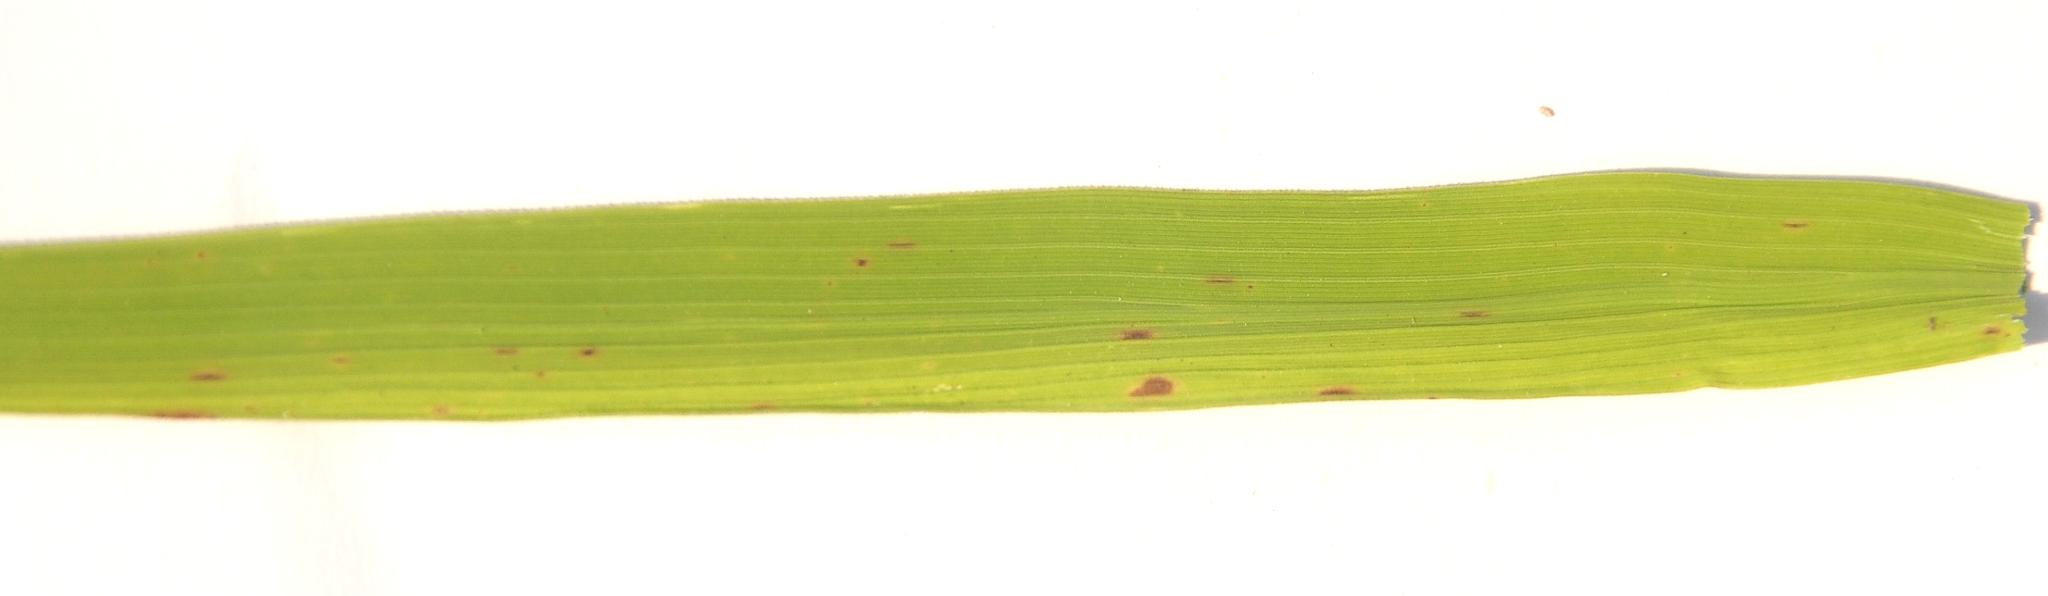0 BrownSpot: (1085, 288, 1220, 408), (838, 217, 935, 276), (470, 341, 622, 369), (1306, 358, 1365, 417), (1446, 298, 1521, 330), (183, 353, 230, 396)
